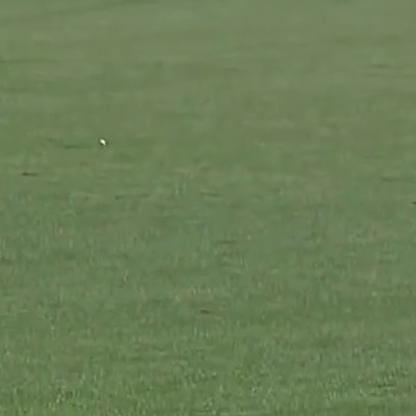golfball: (95, 135, 105, 145)
